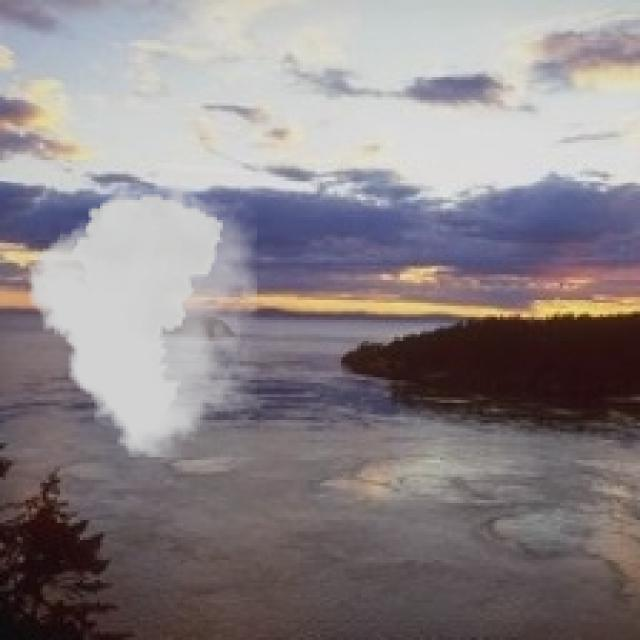smoke: (29, 183, 257, 457)
